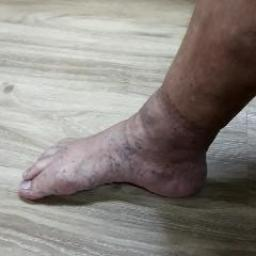Medial View -Right Foot-: (8, 88, 230, 221)
